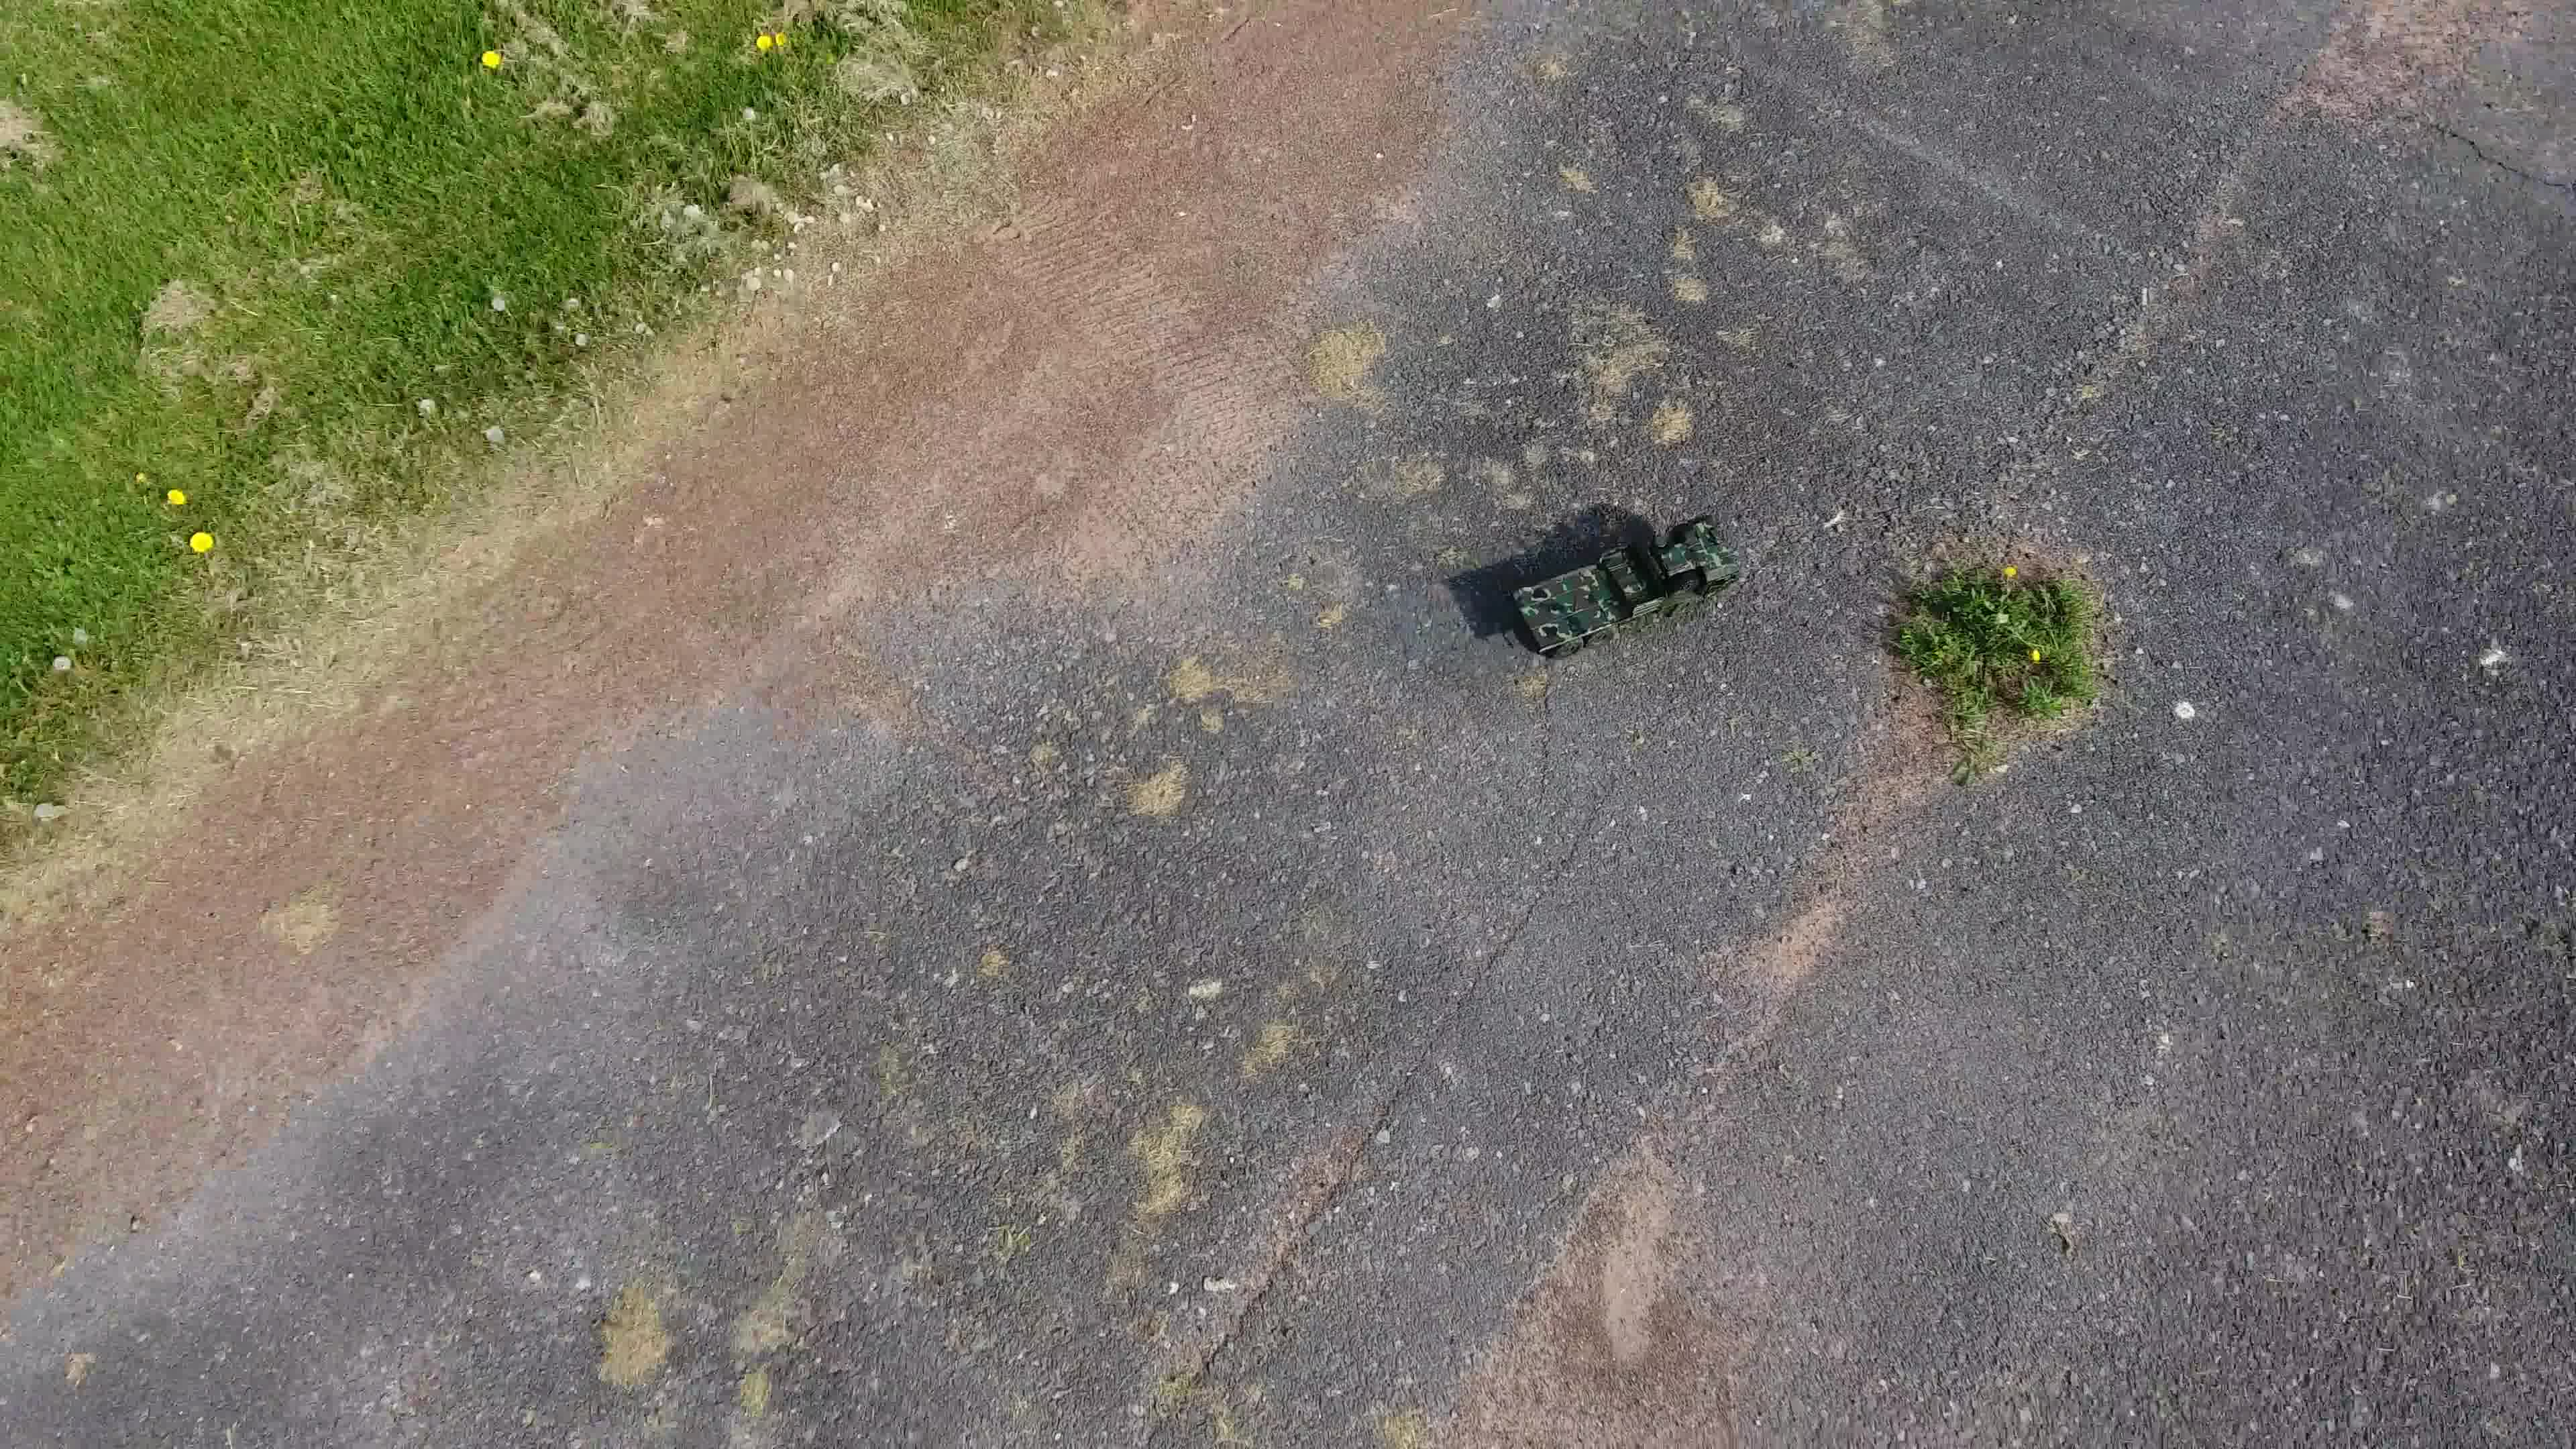transporter9_camo: (1495, 510, 1750, 669)
